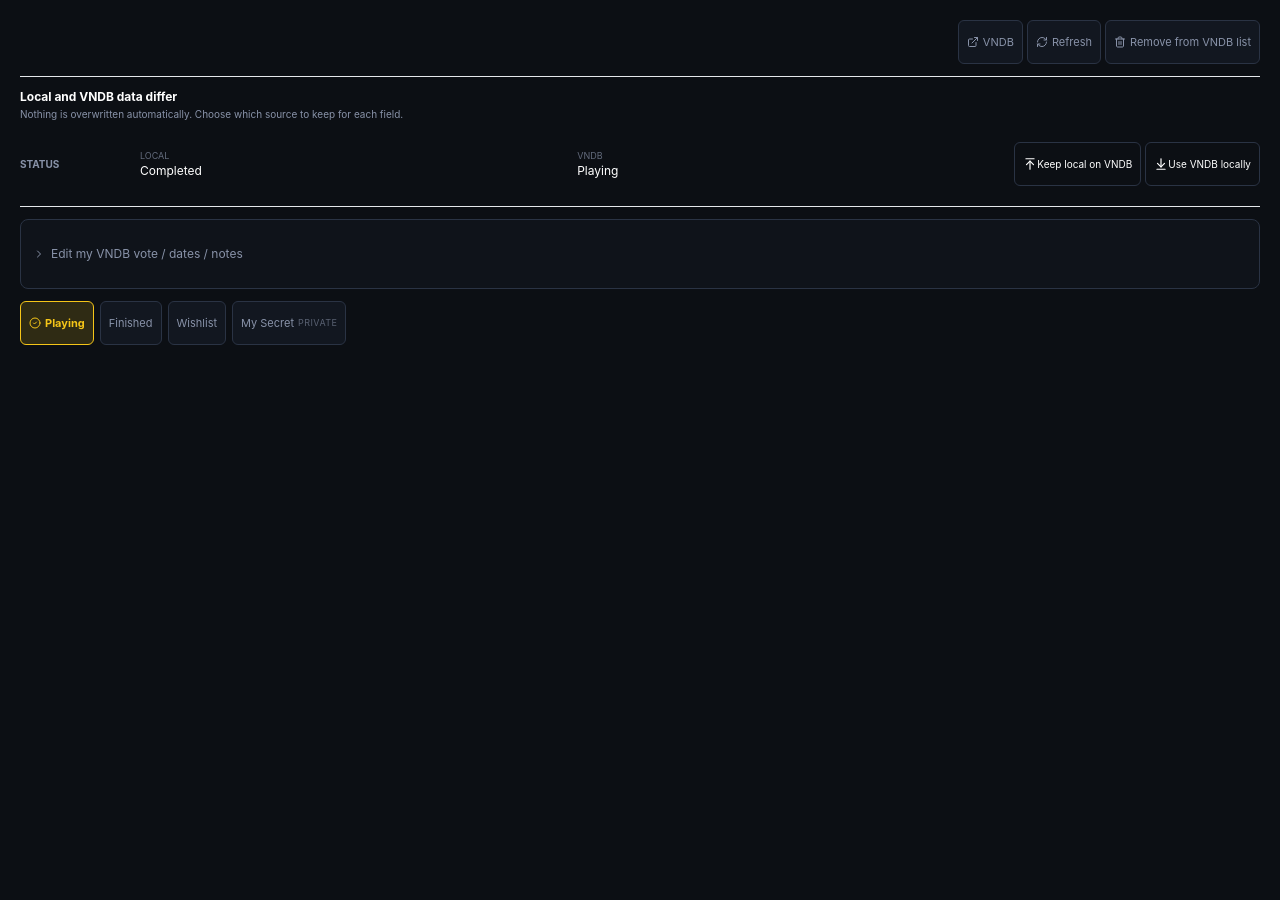
Test case: VndbStatusPanel branches › localizes an unavailable synchronization direction
Click the button "Keep local on VNDB": click(1078, 164) [1014,142,1141,186]
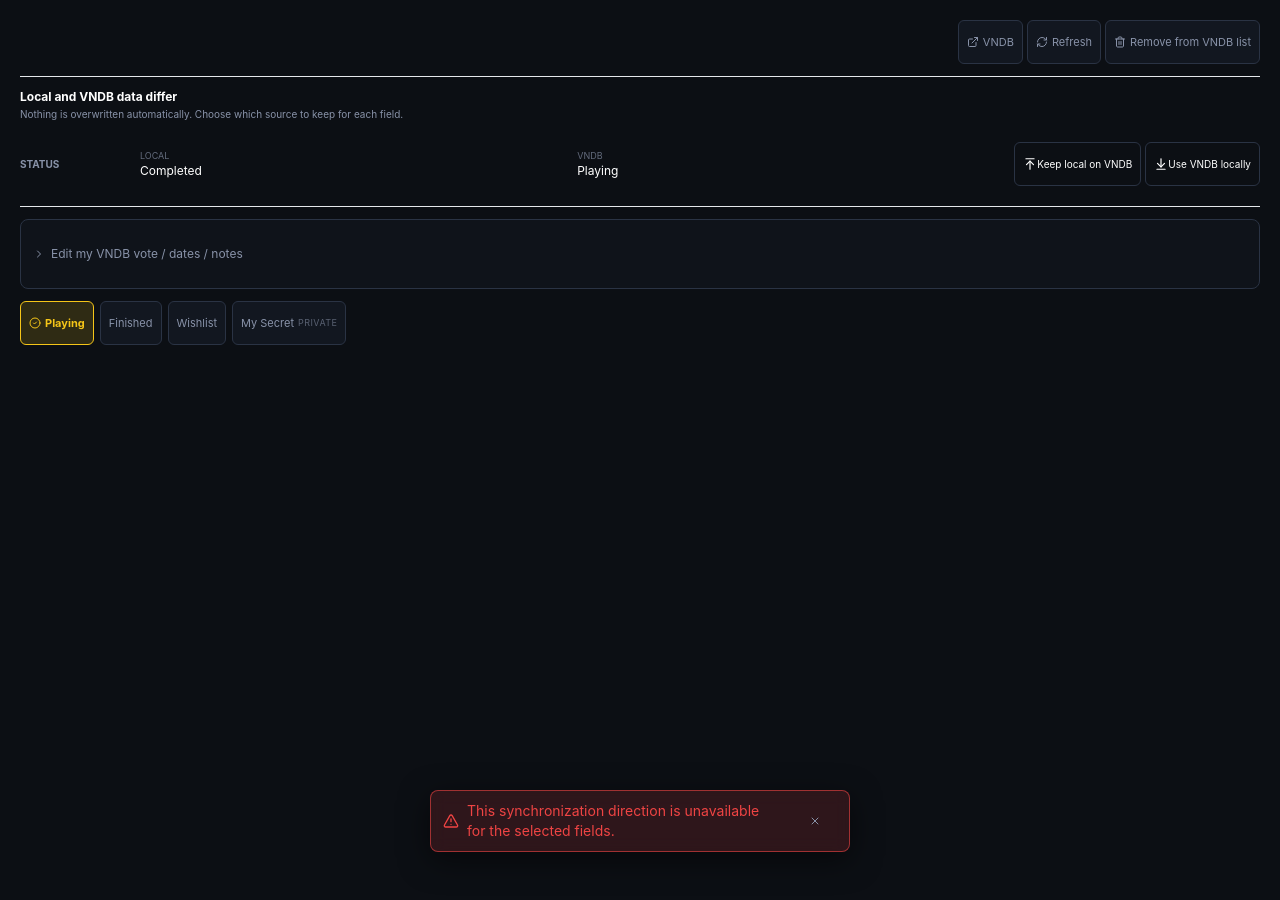
expect the text "This synchronization direction is unavailable for the selected fields." is shown: met, box [467,801,781,841]
